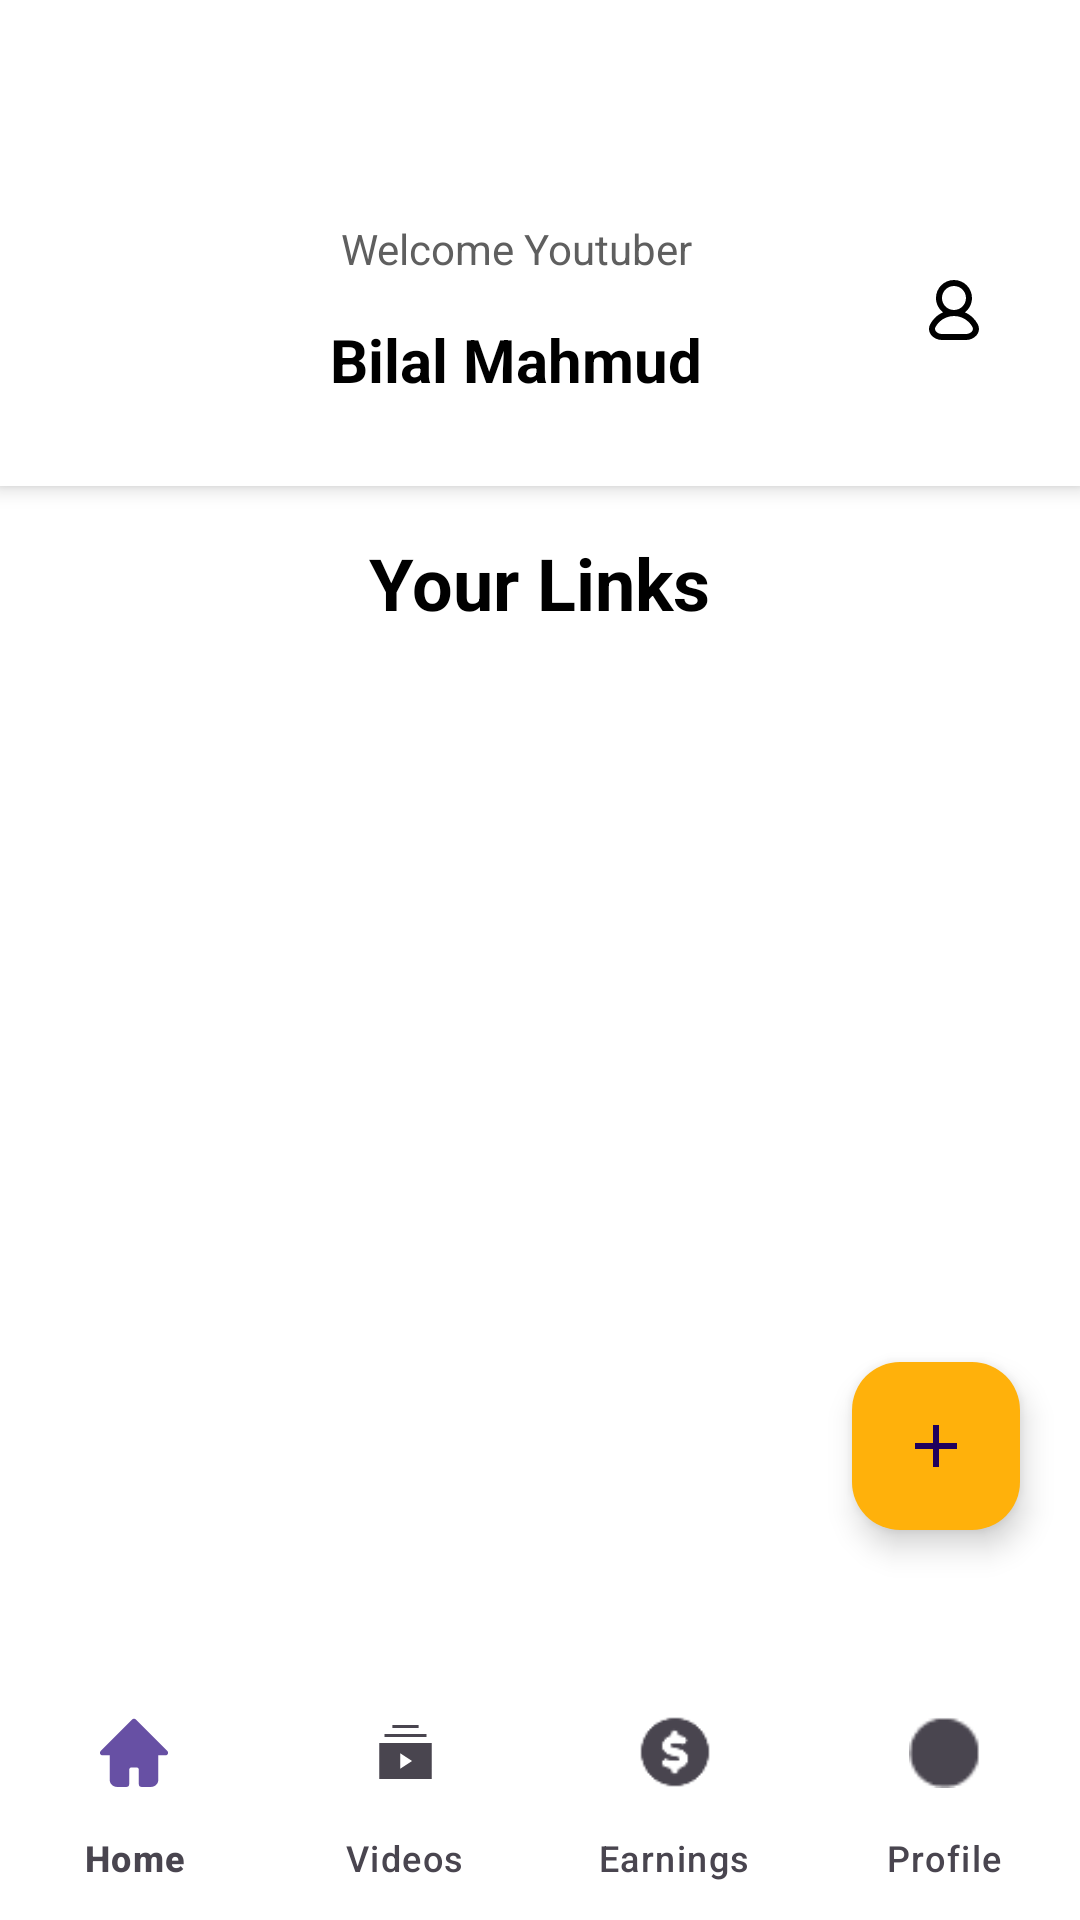

Icons on this 1080px×1920px Android screen, each with its box as [x1,y1,x2,y2]:
add: [852,1362,1020,1530]
person: [929,280,979,340]
